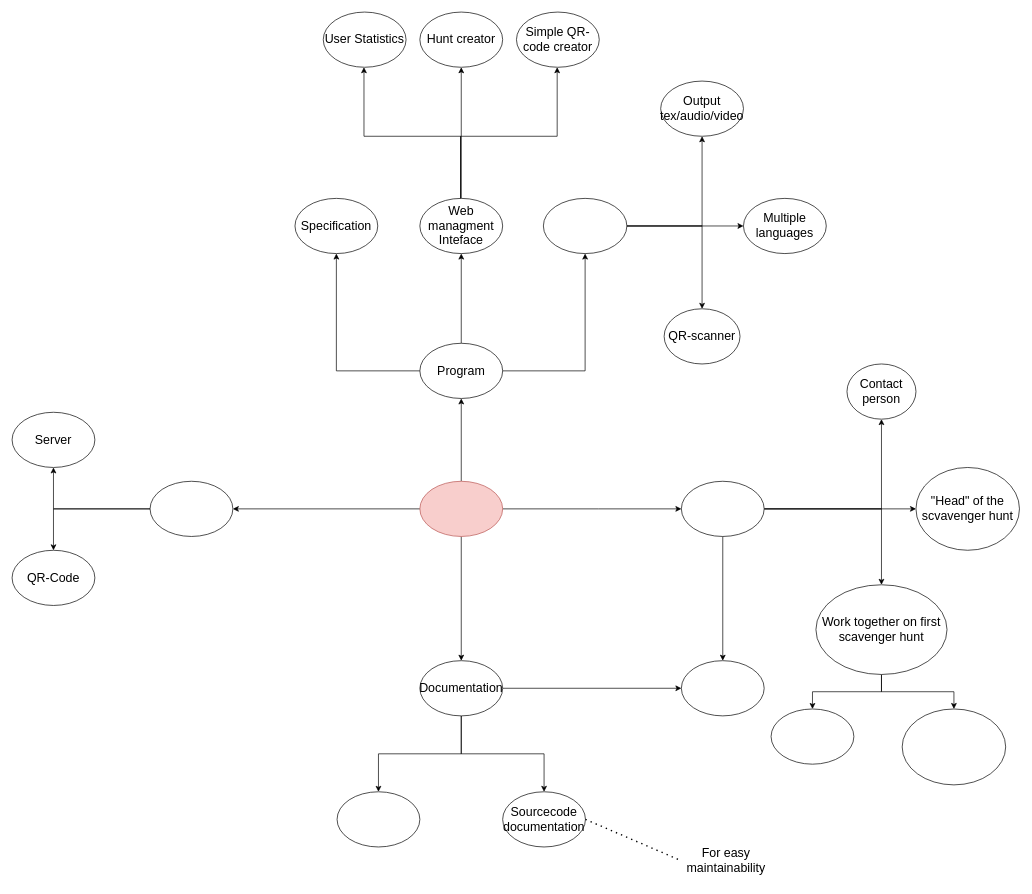
Image size: 1032x894. Some labels were removed from this diagram. The centre of each missing label's shape, as x and y in pixels:
"real world" requirements: pixel 191 508
Create content (video, image, audio, text): pixel 953 746
Factual Research: pixel 812 736
FAQ: pixel 378 819
Guide book: pixel 722 688
Mobile app: pixel 585 226
Scavenger hunt (The Schnitzler): pixel 461 508
Staff training: pixel 722 508
